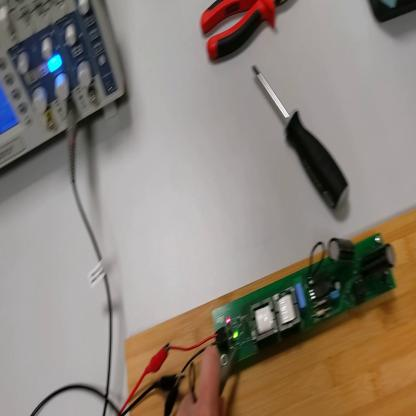hand: (173, 347, 227, 416)
high voltage board: (166, 233, 398, 390)
oscilloscope: (1, 1, 126, 171)
oscilloscope probe tip: (215, 347, 234, 401)
pliers: (198, 1, 291, 62)
screwdriver-: (253, 66, 351, 215)
welder station: (367, 2, 416, 24)
working area: (125, 204, 416, 414)
